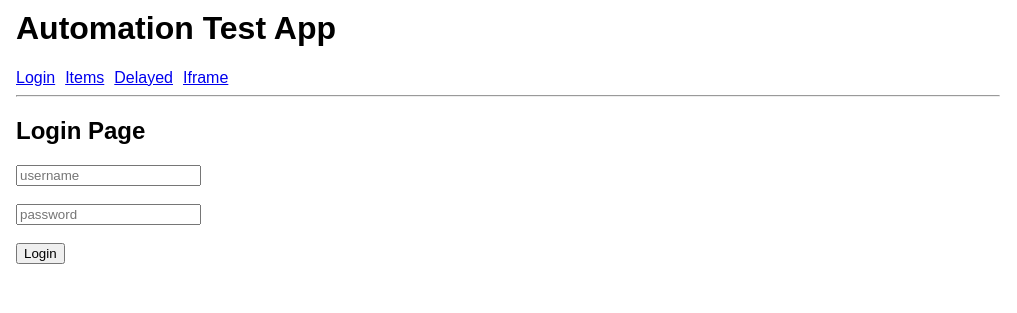
Test: Test-App Login › shows error for bad login
Type "wrong" into the field with placeholder "username". click: (109, 176)
box: [16, 165, 201, 186]
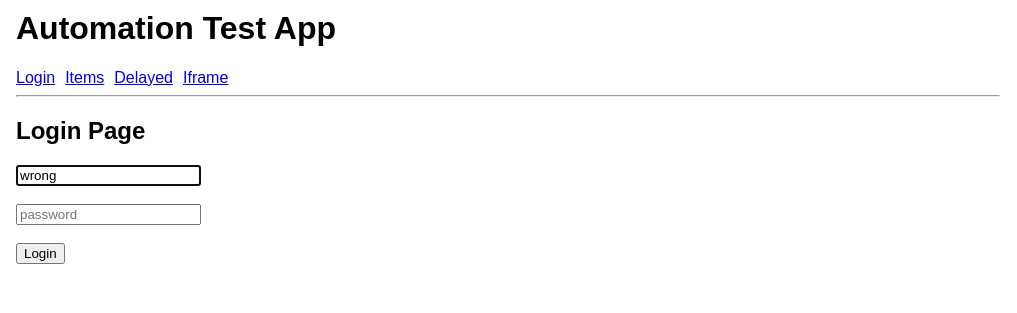
Type "bad" into the password field with placeholder "password". click: (109, 215)
box: [16, 204, 201, 225]
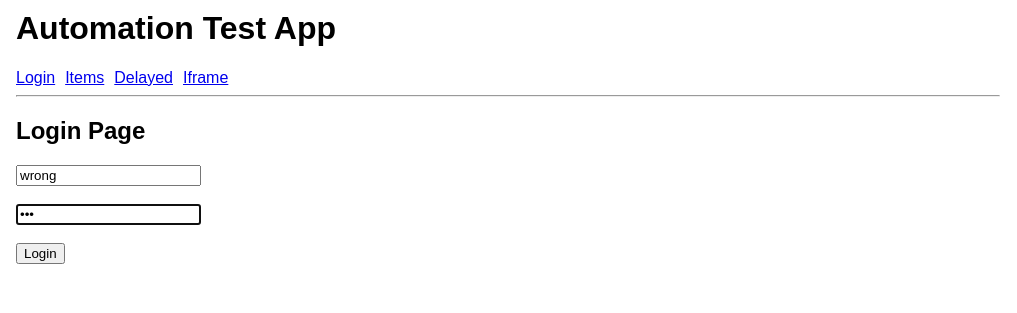
Click the submit button. click: (41, 254)
box: [16, 243, 65, 264]
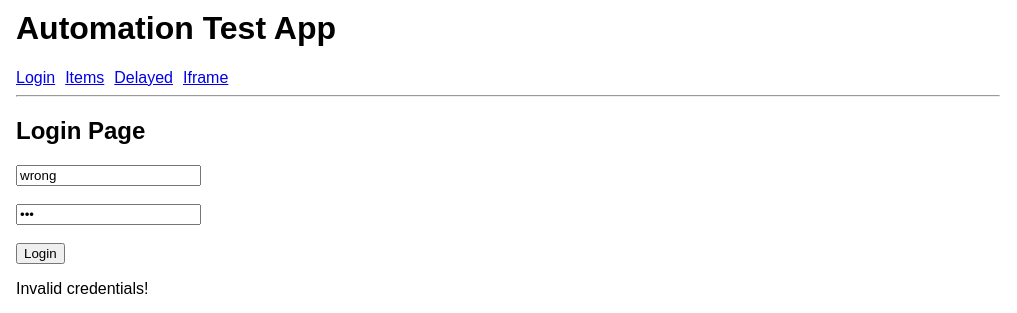
Result: the text "Invalid credentials!" is shown at [16, 280, 148, 297]
